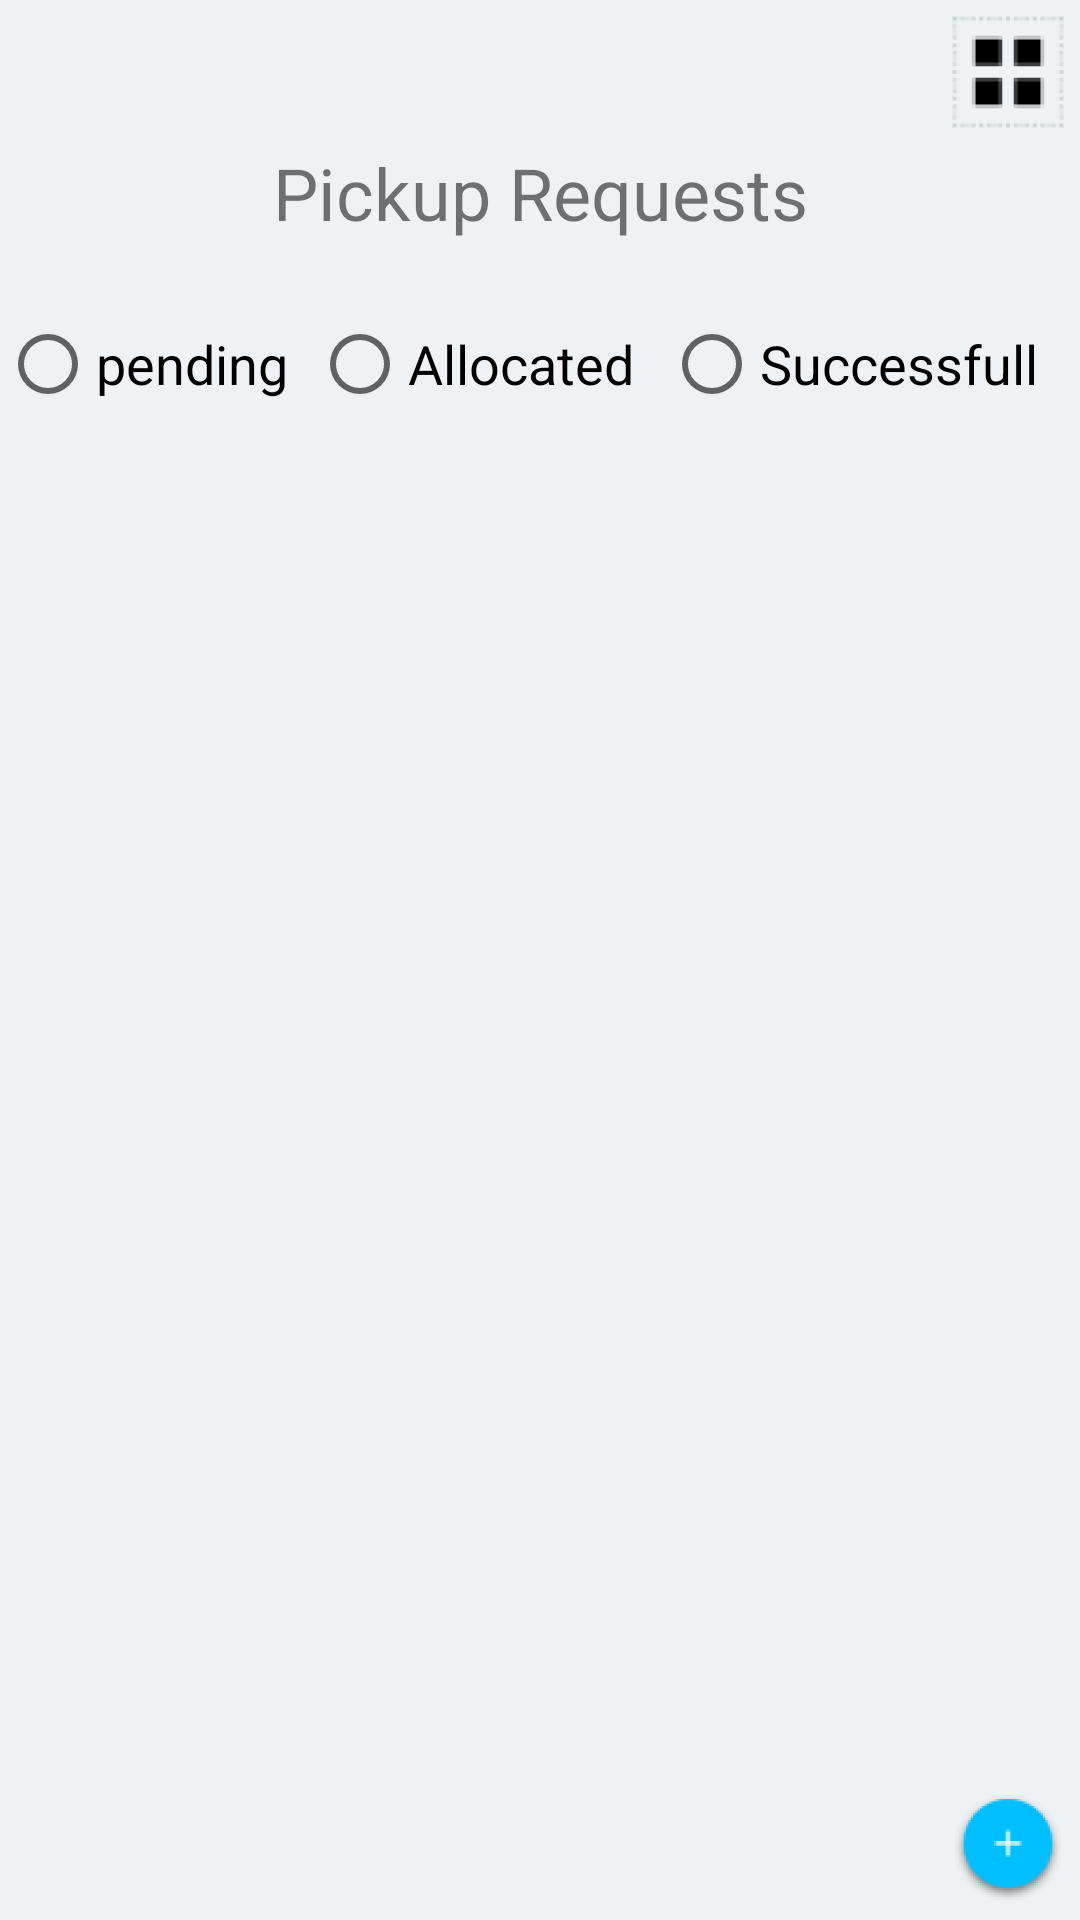

Named icons in this screenshot (1080px×1920px) and their bounding boxes, box(x1, y1, x2, y2):
add: box(959, 1799, 1057, 1897)
